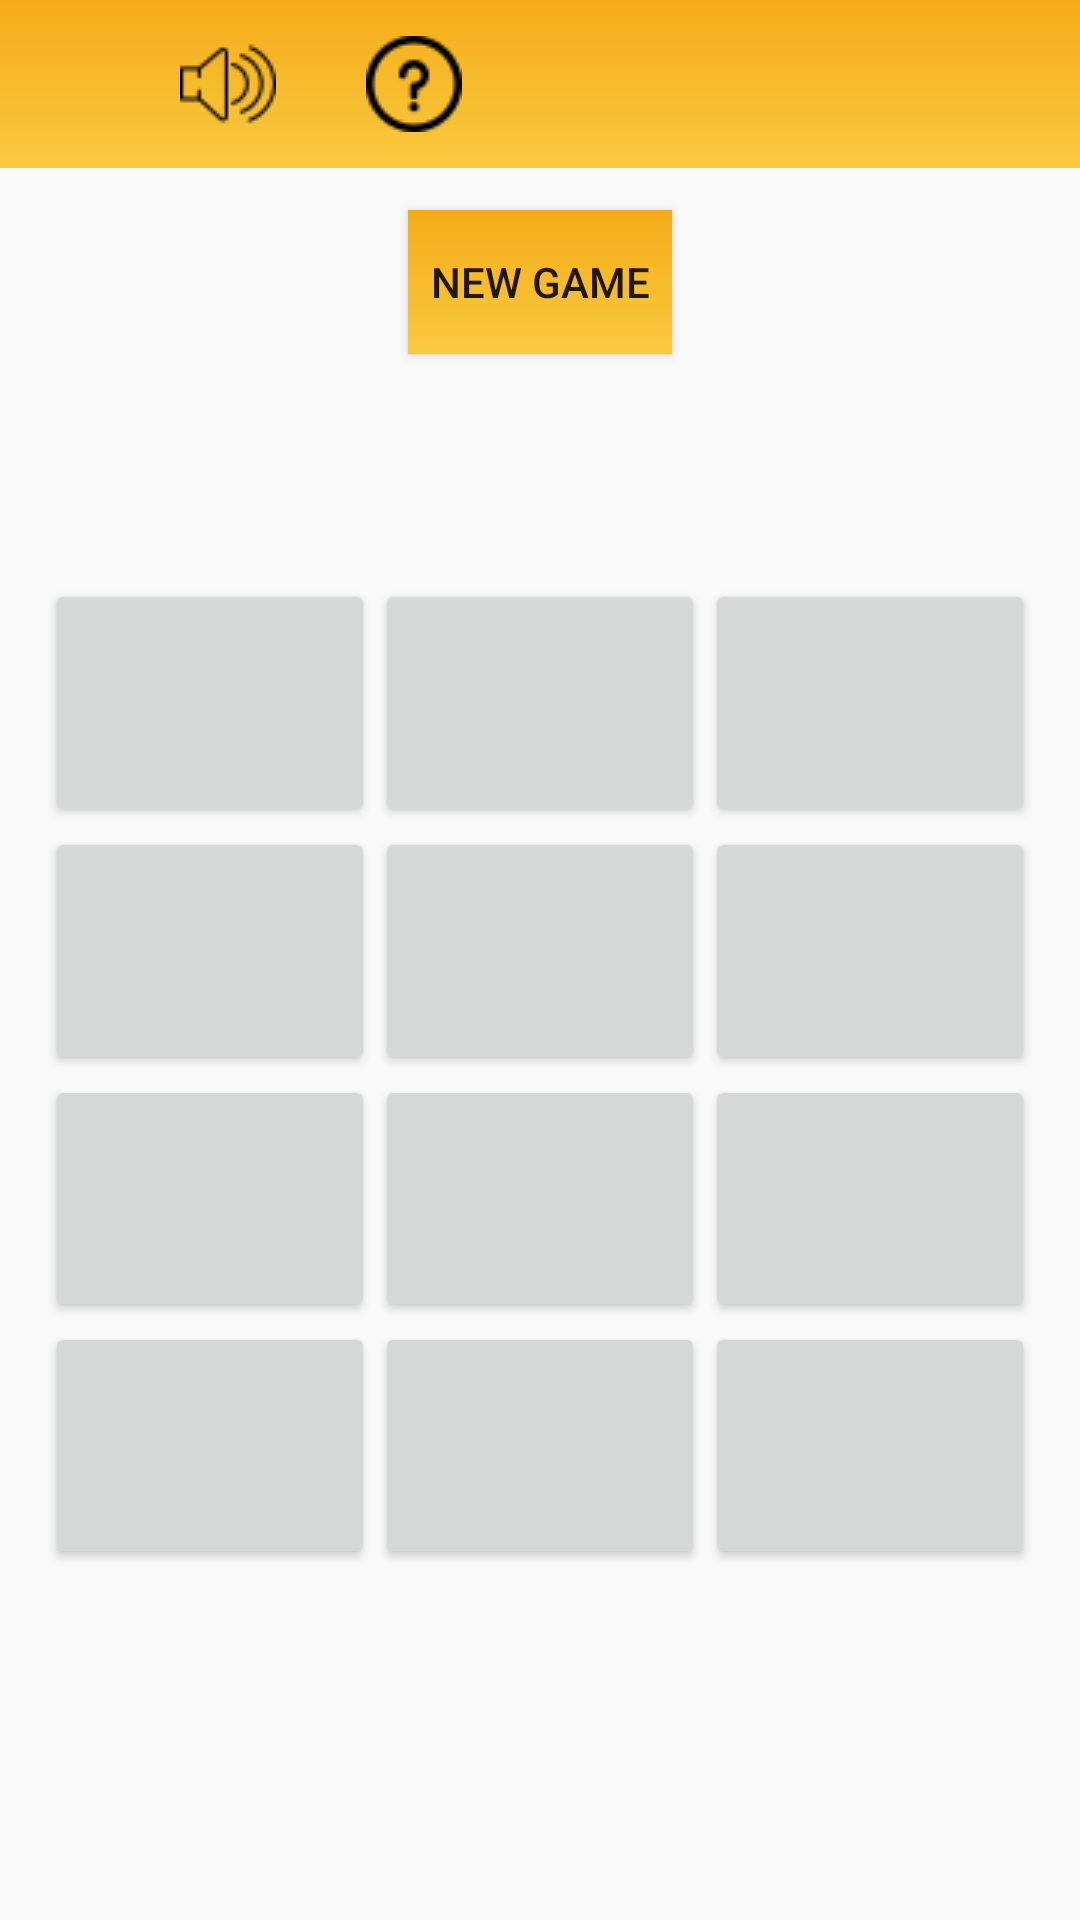

Icons on this 1080×1920 Android screen, each with the point to tap as [x,y]:
speaker: [228,88]
